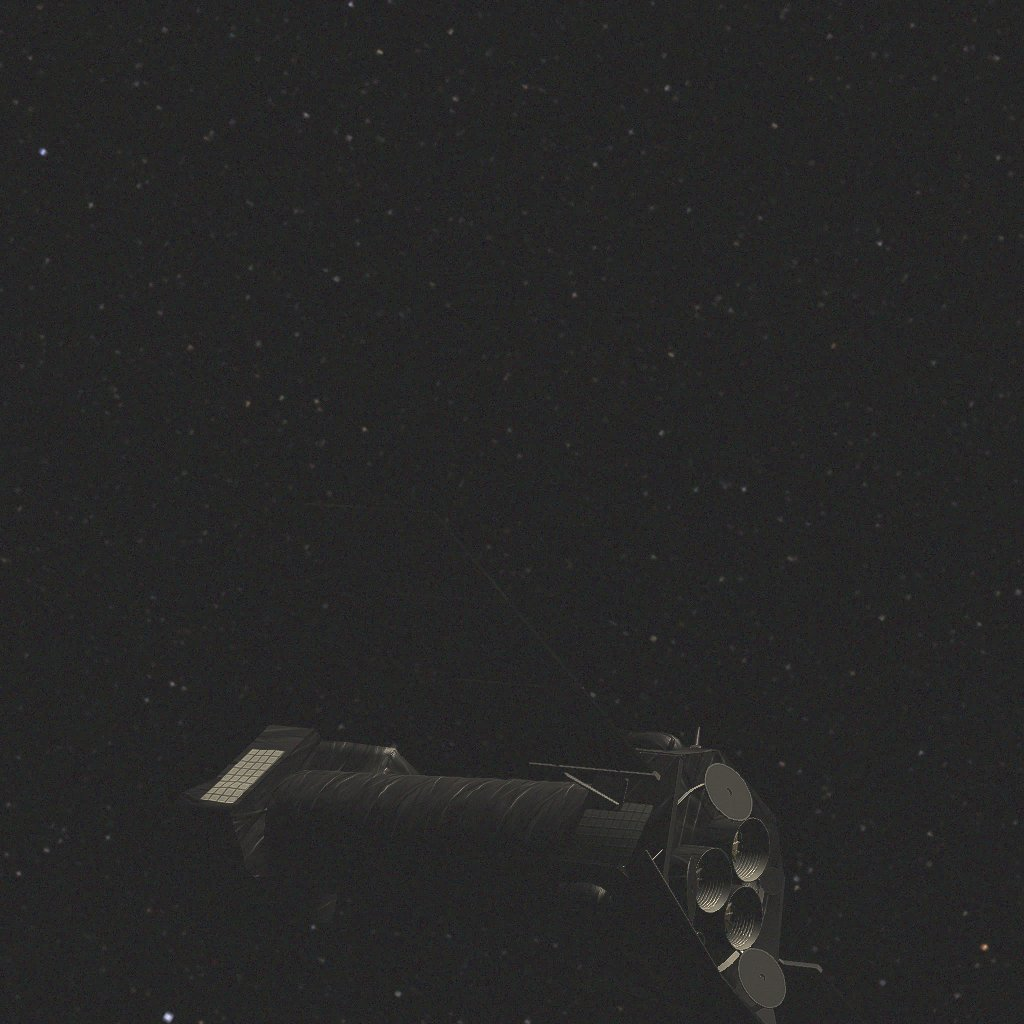xmm_newton: (140, 503, 867, 1024)
